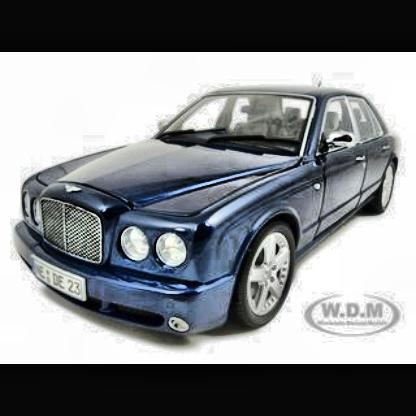Bentley Arnage Sedan 2009: (14, 85, 404, 339)
